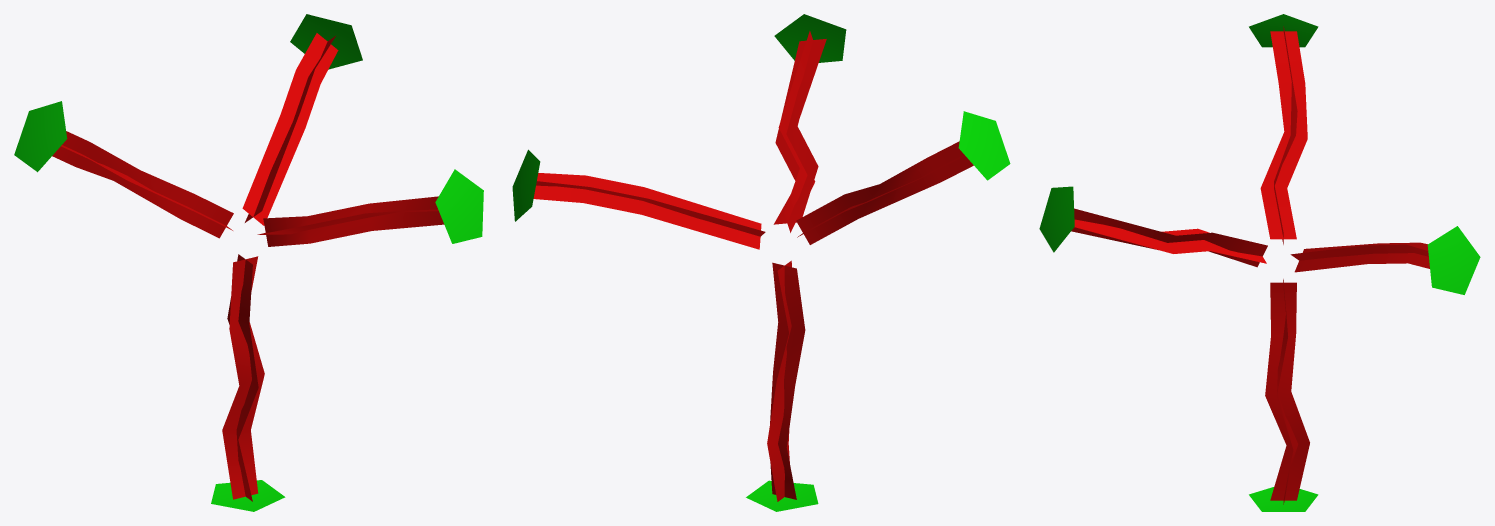
Rendered from SM_PlasmaBallSparks_02.FBX.
3 renders of one model, left to right at view 1: azimuth 30°, elevation 25°; view 2: azimuth 150°, elevation 25°; view 3: azimuth 270°, elevation 25°, orthographic. The views are drawn at different scales.
Visible parts, largest first — view 1: SM_PlasmaBallSparks_02; view 2: SM_PlasmaBallSparks_02; view 3: SM_PlasmaBallSparks_02.
Part boxes in pixels (x1=…): SM_PlasmaBallSparks_02: x1=14, y1=14, x2=483, y2=511; SM_PlasmaBallSparks_02: x1=512, y1=14, x2=1010, y2=511; SM_PlasmaBallSparks_02: x1=1039, y1=14, x2=1480, y2=511.
Size of the model in its own units: 166 by 165 by 168.
